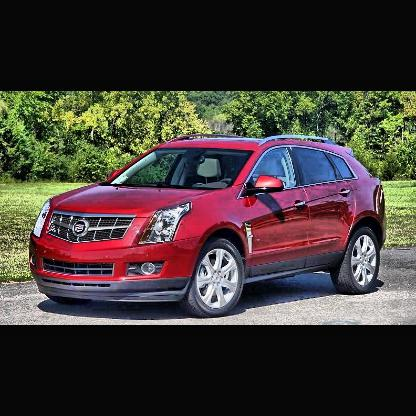Cadillac SRX SUV 2012: (29, 135, 387, 320)
